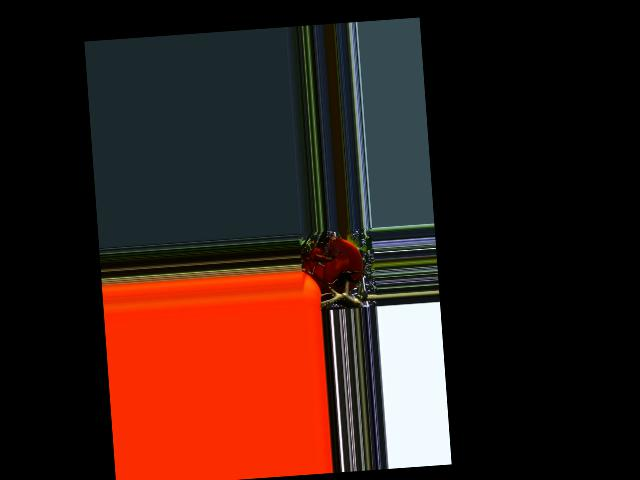tomato: (300, 235, 364, 296)
